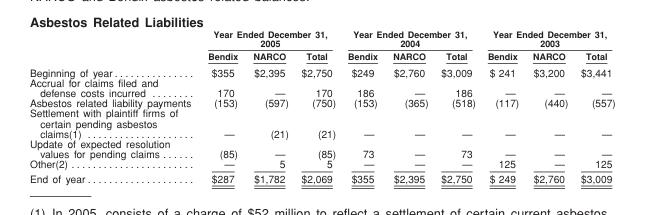table: (28, 28, 614, 183)
table column: (28, 28, 198, 183), (244, 28, 294, 183), (384, 28, 433, 183), (525, 28, 573, 183), (294, 28, 341, 183), (433, 28, 480, 183), (198, 28, 244, 183), (480, 28, 525, 183), (341, 28, 384, 183), (573, 28, 614, 183)
table column header: (28, 28, 614, 63)
table row: (28, 107, 614, 138), (28, 28, 614, 49), (28, 76, 614, 97), (28, 138, 614, 158), (28, 49, 614, 63), (28, 63, 614, 76), (28, 170, 614, 183), (28, 158, 614, 170), (28, 97, 614, 107)
table spanning cell: (198, 28, 341, 49), (341, 28, 480, 49), (480, 28, 614, 49)
